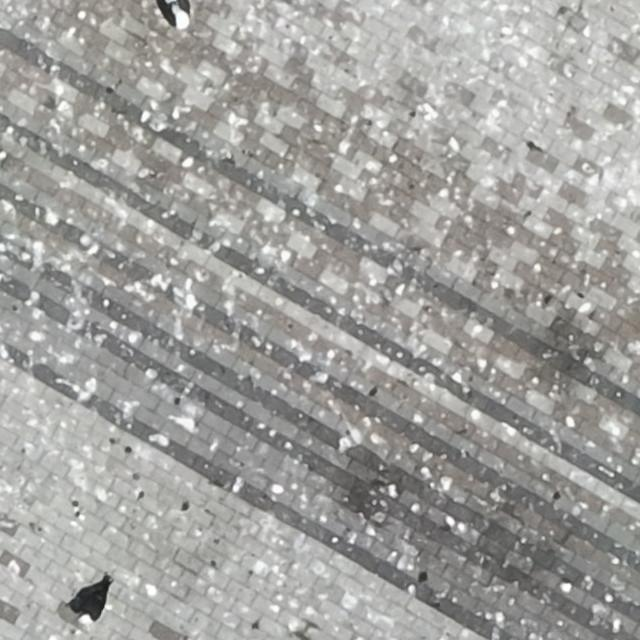umineko: (75, 576, 111, 628), (158, 1, 192, 35)
